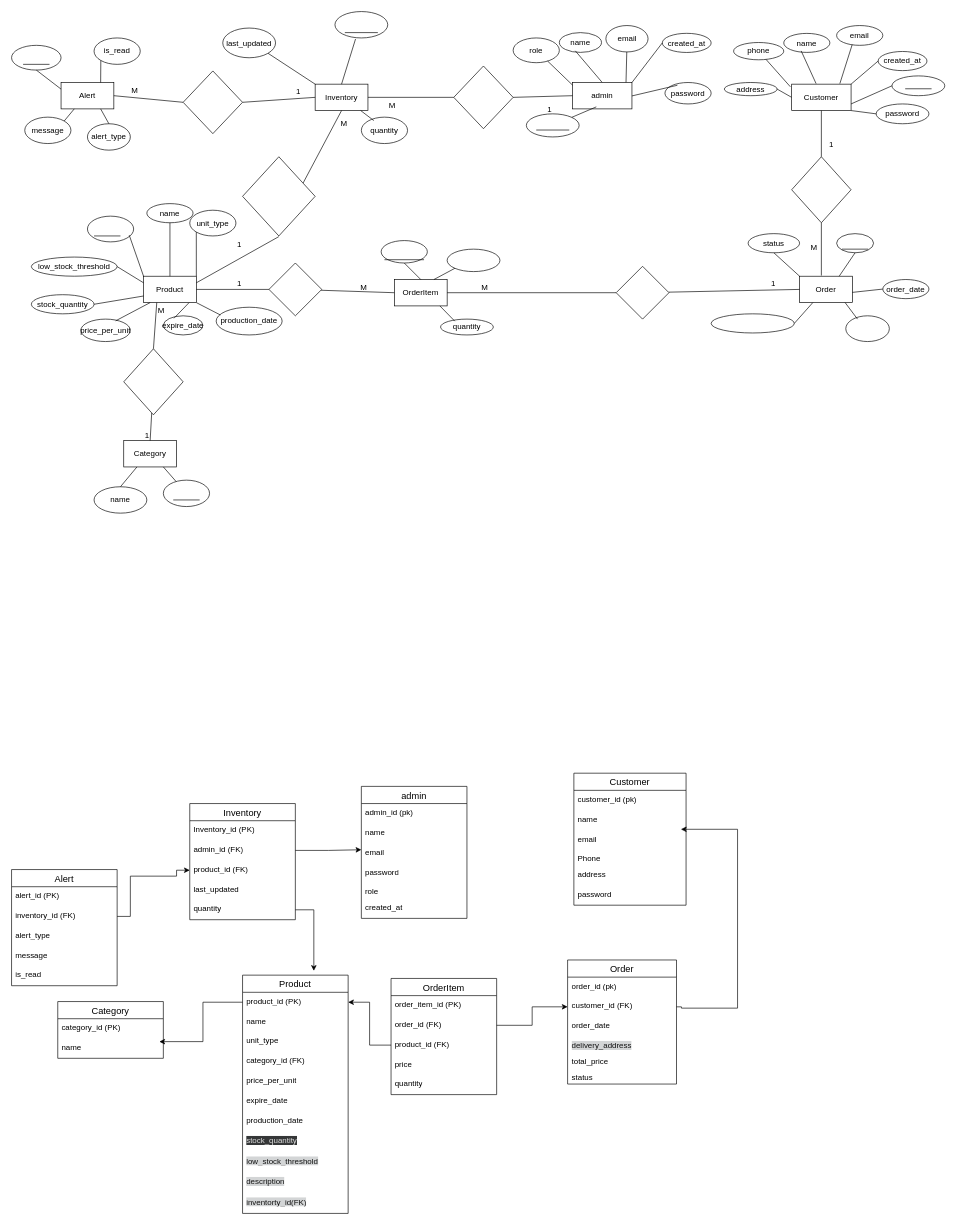
This 956x1227 diagram has some shape labels left out. The shapes that lost their labels are listed below. From the top down, each one's centre as x and y in pixels, then its label:
At point 361,24: "inventory_id".
At point 36,57: "alert_id".
At point 212,102: "generate".
At point 483,97: "manages".
At point 918,85: "customer_id".
At point 552,125: "admin_id".
At point 278,196: "tracked in many records of".
At point 821,189: "places".
At point 110,228: "product_id".
At point 855,243: "order_id".
At point 403,251: "item_id".
At point 473,260: "unit_price".
At point 295,289: "appear in".
At point 642,292: "includes".
At point 752,323: "delaviery_address".
At point 867,328: "total_price".
At point 153,381: "has different".
At point 186,493: "category_id".
